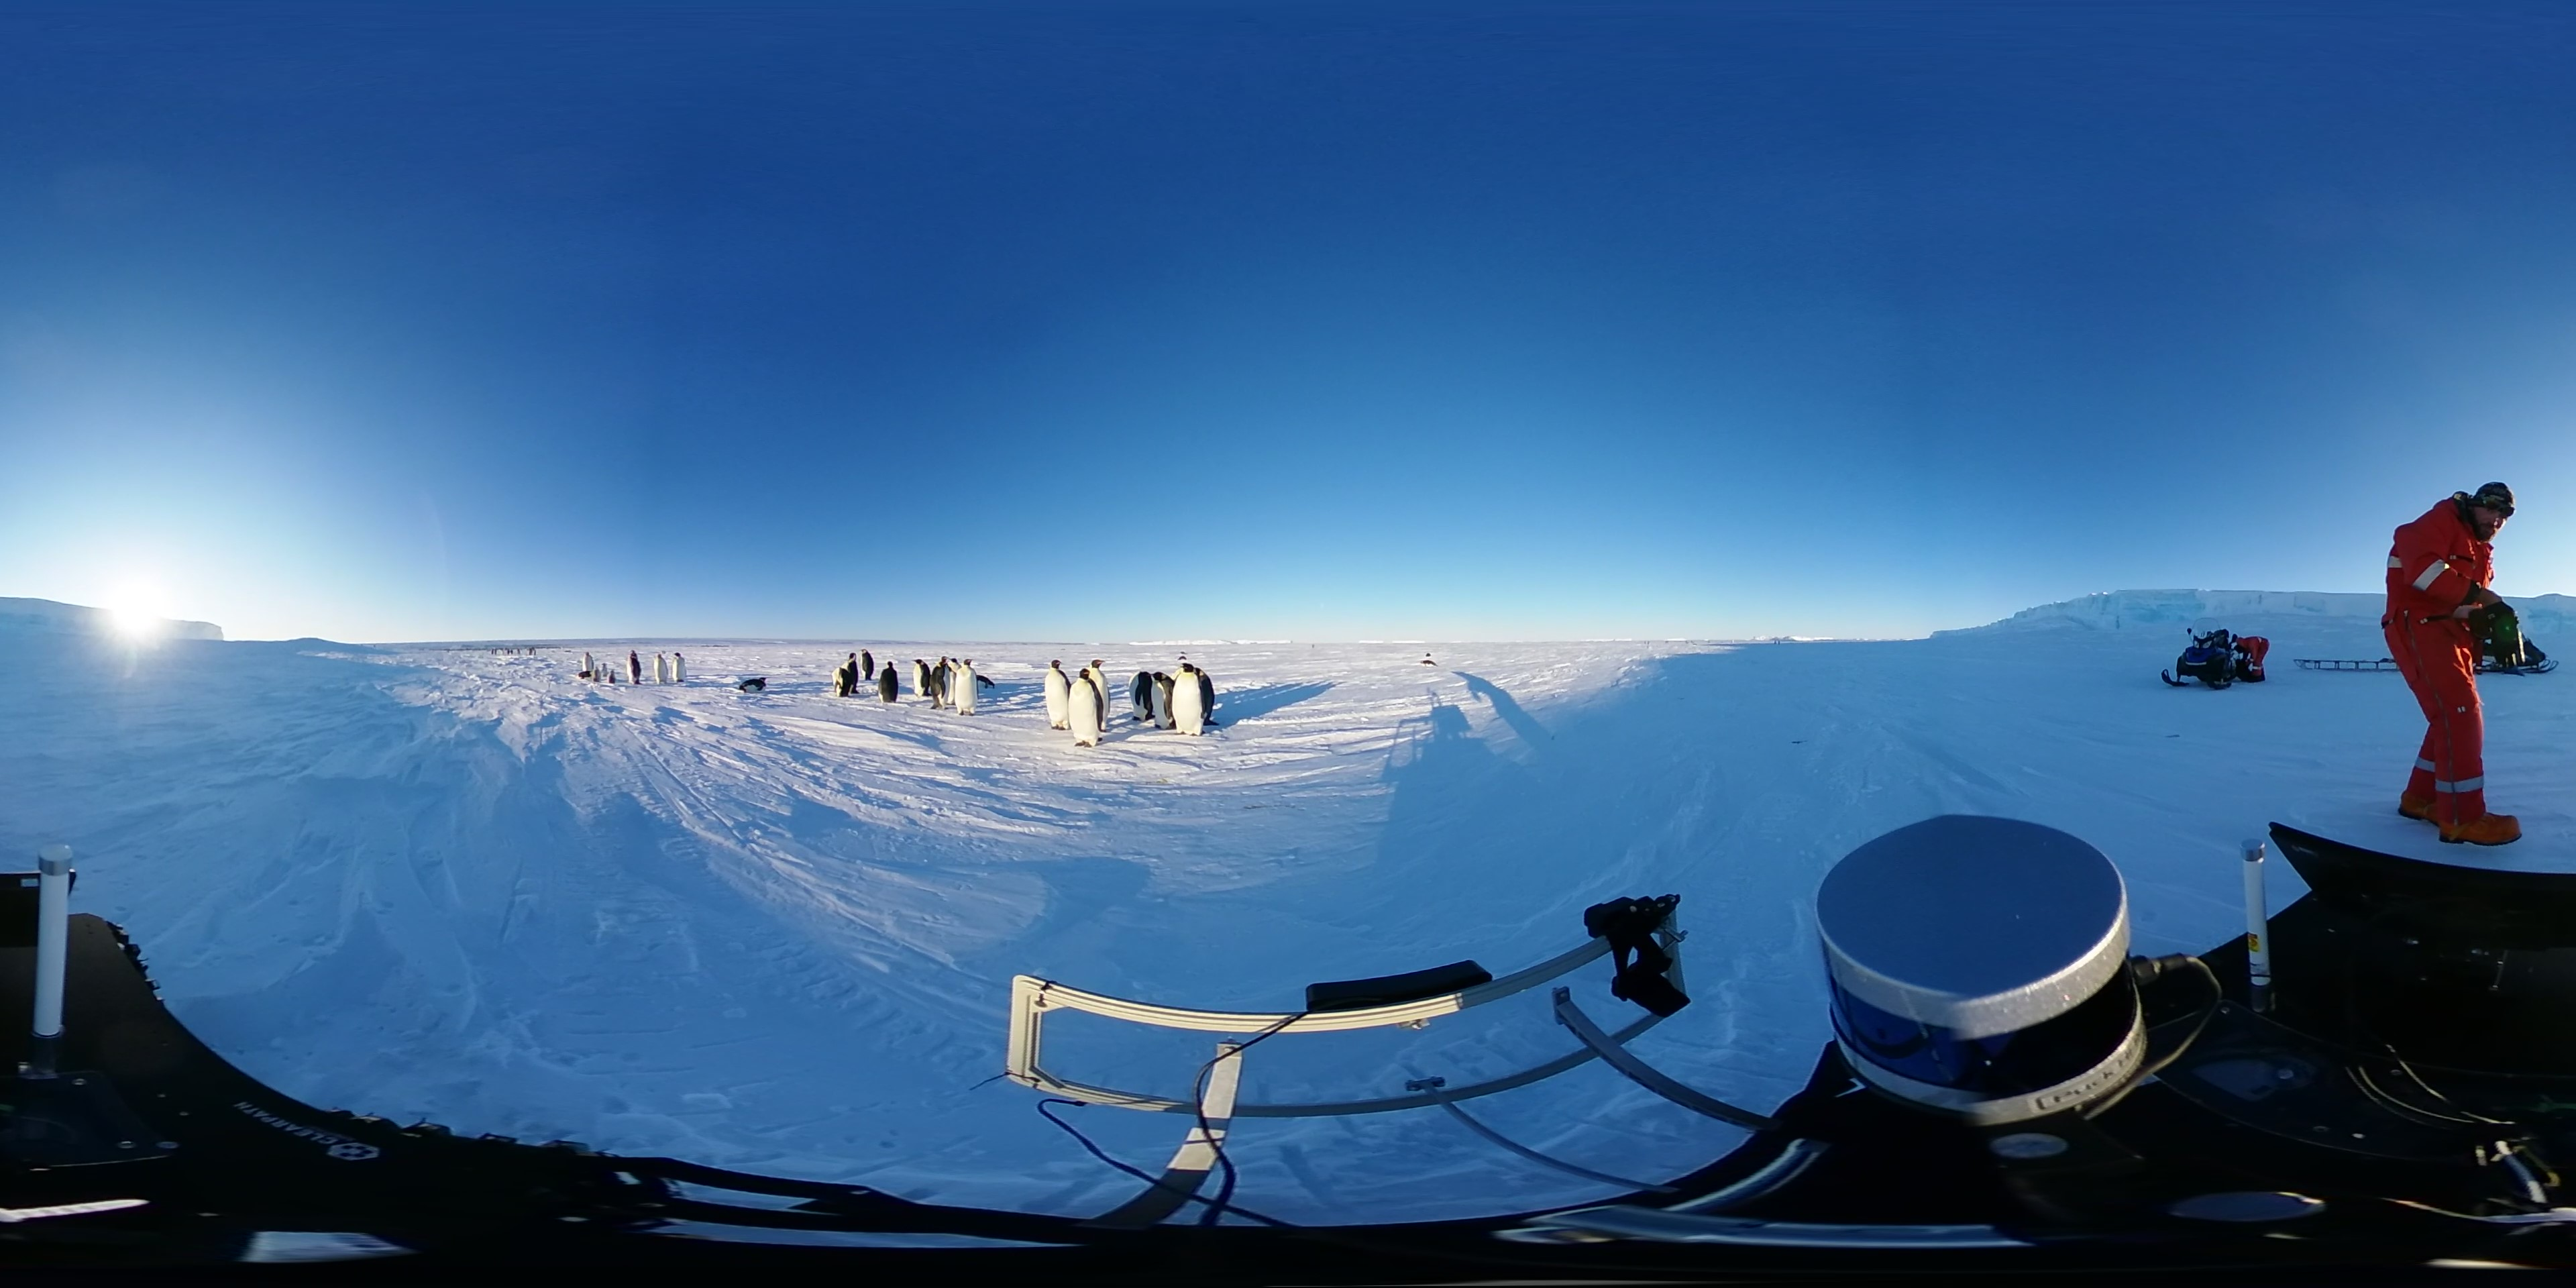adult_standing_penguin: (1068, 667, 1104, 754), (1173, 660, 1211, 739), (1043, 659, 1074, 731), (1086, 655, 1109, 736), (954, 652, 981, 718), (1150, 669, 1175, 733), (876, 659, 900, 705), (908, 655, 933, 698), (669, 651, 690, 685), (859, 644, 876, 680)
adult_toboggan_penguin: (733, 674, 772, 698)
researcher: (2379, 473, 2555, 848), (2228, 631, 2272, 685)
